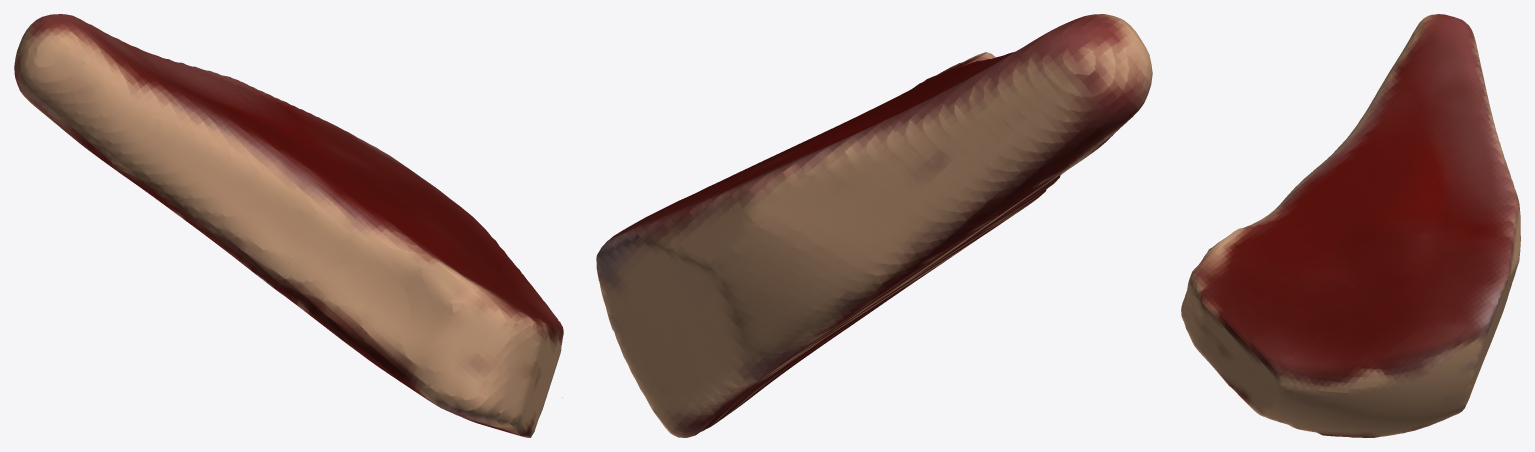
The model's file is steak.fbx.
3 views of the same model, side by side, from view 1: azimuth 30°, elevation 25°; view 2: azimuth 150°, elevation 25°; view 3: azimuth 270°, elevation 25° (orthographic). The views are drawn at different scales.
Parts seen in each view (by area): view 1: Layer_1; view 2: Layer_1; view 3: Layer_1.
Boxes of the visible parts, bbox=[...] form: Layer_1: bbox=[14, 14, 563, 437]; Layer_1: bbox=[596, 14, 1152, 437]; Layer_1: bbox=[1181, 14, 1520, 437].
Size of the model in its own units: 0.4445 by 0.4214 by 0.4136.
